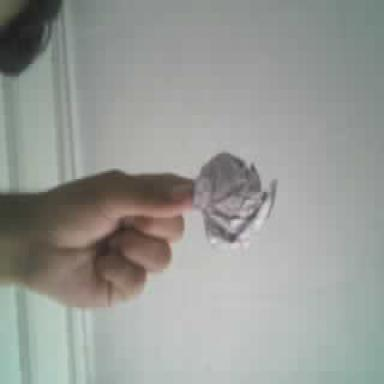paper: (193, 152, 276, 248)
